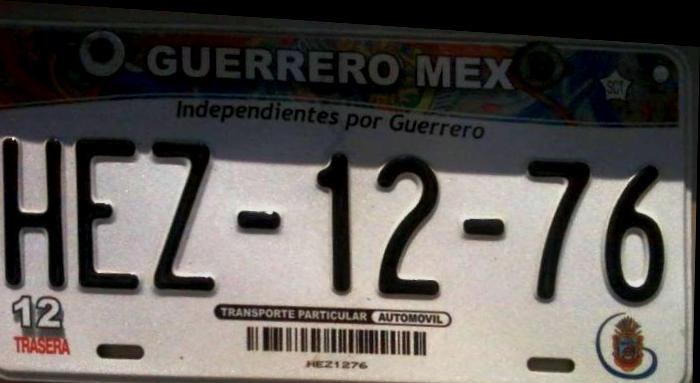License_Plate: (3, 16, 680, 383)
